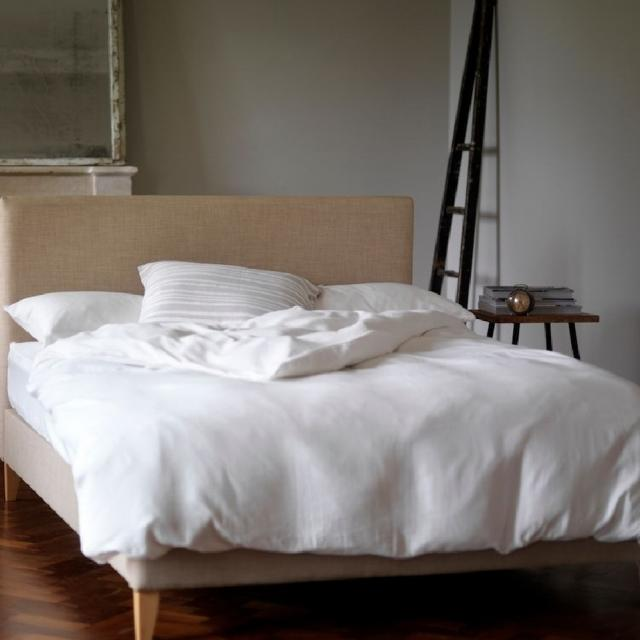bed: (10, 246, 640, 639)
